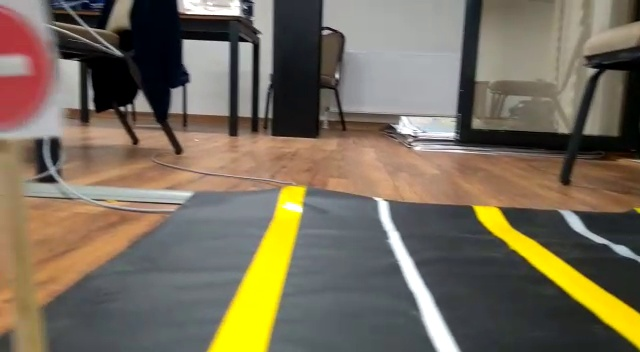girisi_olmayan_yol: (1, 7, 50, 140)
